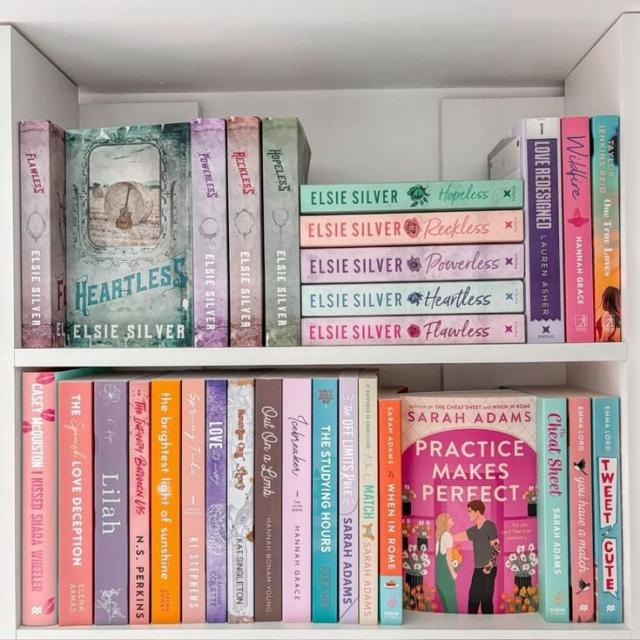book: (19, 120, 65, 347), (360, 376, 401, 623), (519, 119, 563, 342), (21, 372, 56, 625), (559, 116, 598, 342), (302, 244, 522, 283), (58, 382, 93, 624), (94, 382, 128, 624), (192, 118, 228, 346), (301, 210, 522, 247), (300, 179, 523, 215), (301, 280, 522, 316), (264, 118, 299, 345), (227, 116, 260, 345), (282, 378, 311, 622), (151, 380, 180, 623), (537, 396, 568, 622), (302, 315, 523, 345), (227, 380, 254, 622), (311, 381, 338, 622), (254, 381, 281, 621), (568, 396, 596, 622), (591, 116, 619, 341), (593, 397, 621, 622), (181, 379, 205, 622), (205, 380, 226, 622), (129, 382, 150, 623), (339, 376, 359, 622)
